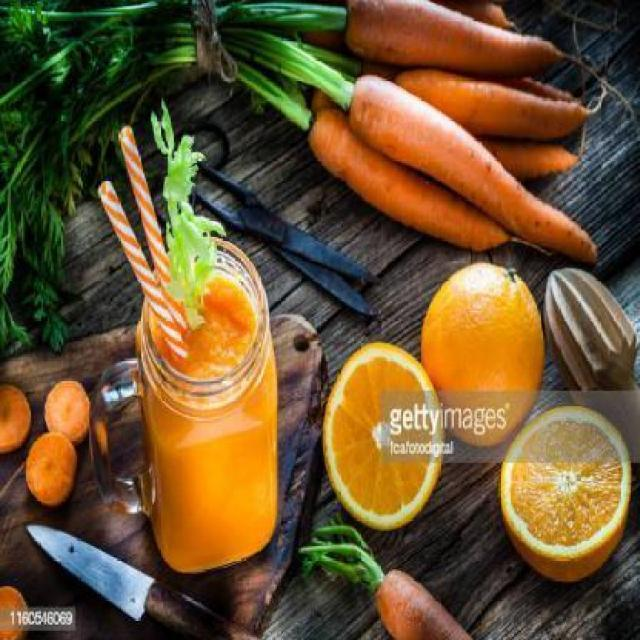Jeruk Sudah Matang: (415, 260, 543, 451)
